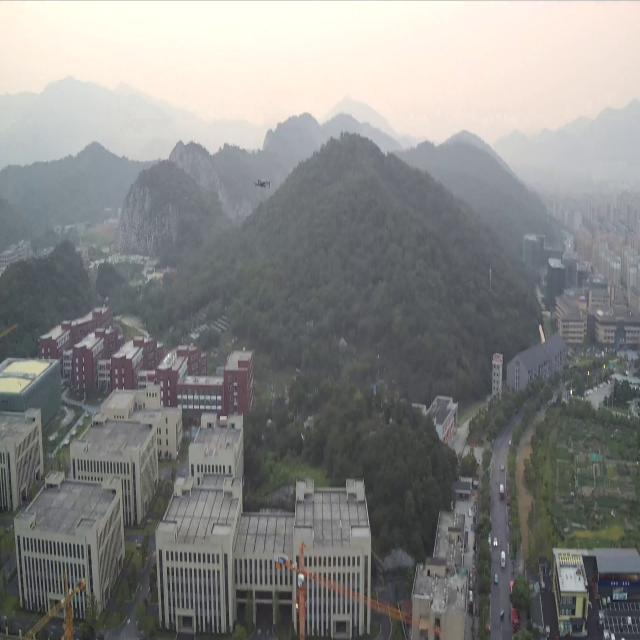UAV: (252, 178, 272, 190)
